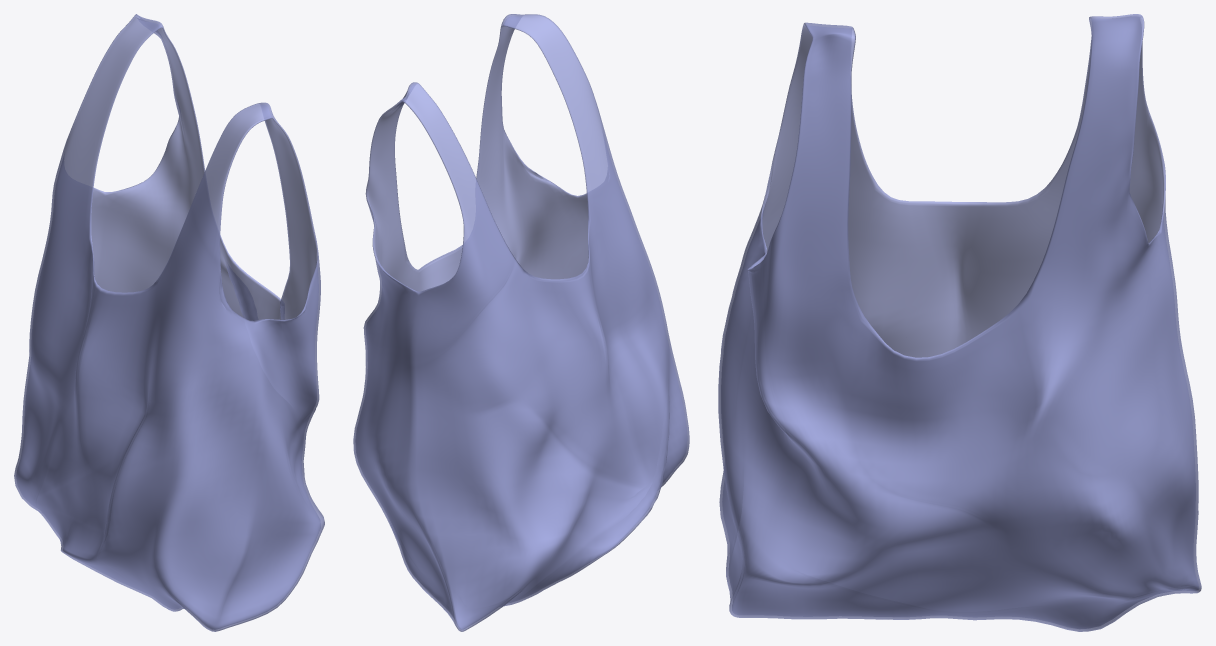
Rendered from plastico1.fbx.
3 views of the same model, side by side, from view 1: azimuth 30°, elevation 25°; view 2: azimuth 150°, elevation 25°; view 3: azimuth 270°, elevation 25° (orthographic). The views are drawn at different scales.
Visible parts, largest first — view 1: Cube.052; view 2: Cube.052; view 3: Cube.052.
Part boxes in pixels (x1,y1,x2,y2): Cube.052: (14,14,324,631); Cube.052: (353,14,689,631); Cube.052: (718,14,1201,631).
Bounding box in the file's own units: 118 × 255 × 172.
